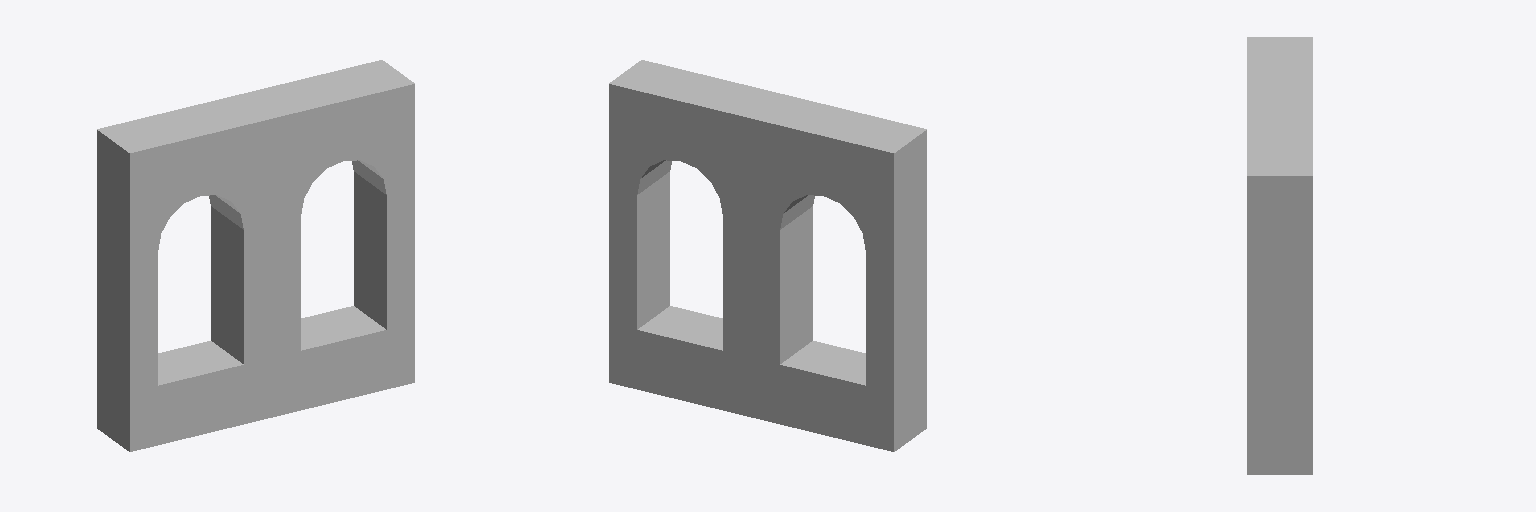
File: 2_wall_windows.obj
3 renders of one model, left to right at view 1: azimuth 30°, elevation 25°; view 2: azimuth 150°, elevation 25°; view 3: azimuth 270°, elevation 25°, orthographic.
Parts seen in each view (by area): view 1: object1; view 2: object1; view 3: object1.
Part boxes in pixels (bbox=[...]): object1: bbox=[97, 60, 414, 451]; object1: bbox=[609, 60, 926, 451]; object1: bbox=[1247, 37, 1312, 474].
Bounding box in the file's own units: 1 × 1 × 0.2.